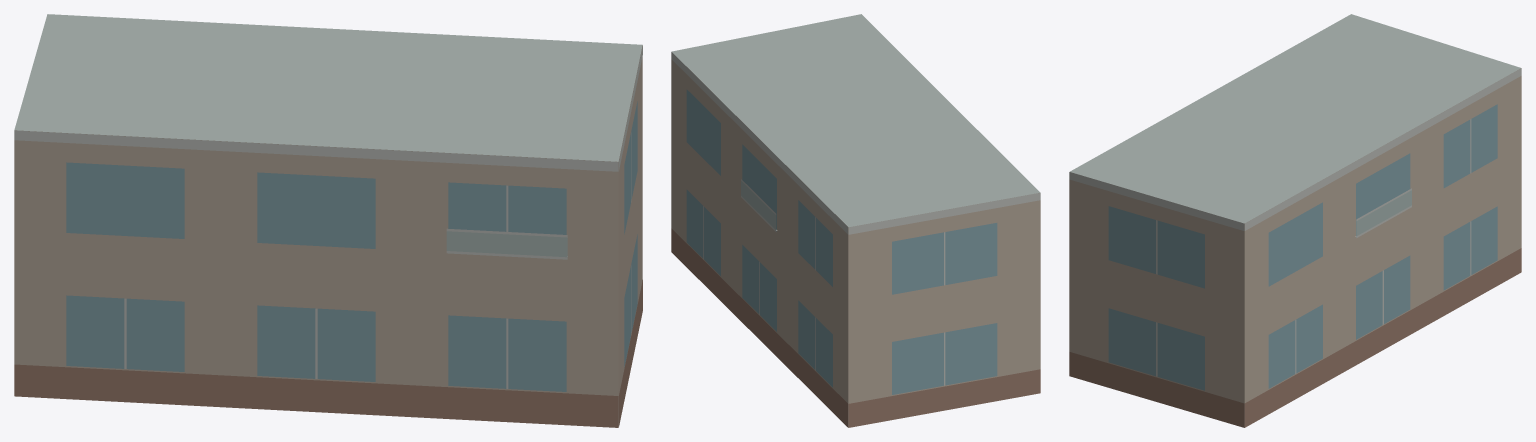
The model's file is survey-upis-32971116.glb.
3 renders of one model, left to right at view 1: azimuth 30°, elevation 25°; view 2: azimuth 150°, elevation 25°; view 3: azimuth 270°, elevation 25°, orthographic. The views are drawn at different scales.
Visible parts, largest first — view 1: survey-upis-32971116.tmp; view 2: survey-upis-32971116.tmp; view 3: survey-upis-32971116.tmp.
Part boxes in pixels (x1=…): survey-upis-32971116.tmp: x1=14, y1=14, x2=642, y2=427; survey-upis-32971116.tmp: x1=671, y1=14, x2=1040, y2=427; survey-upis-32971116.tmp: x1=1069, y1=14, x2=1521, y2=427.
Size of the model in its own units: 14.3 by 6.5 by 13.04.
